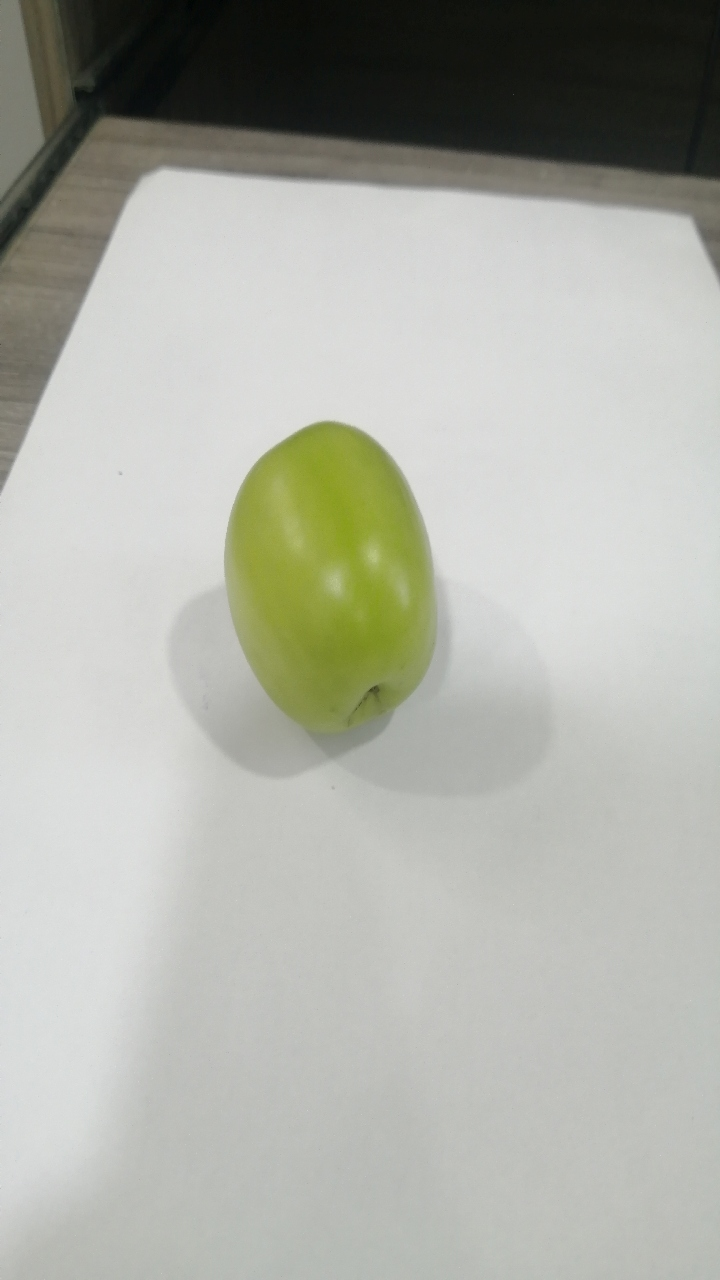tomateVerde: (220, 402, 457, 763)
